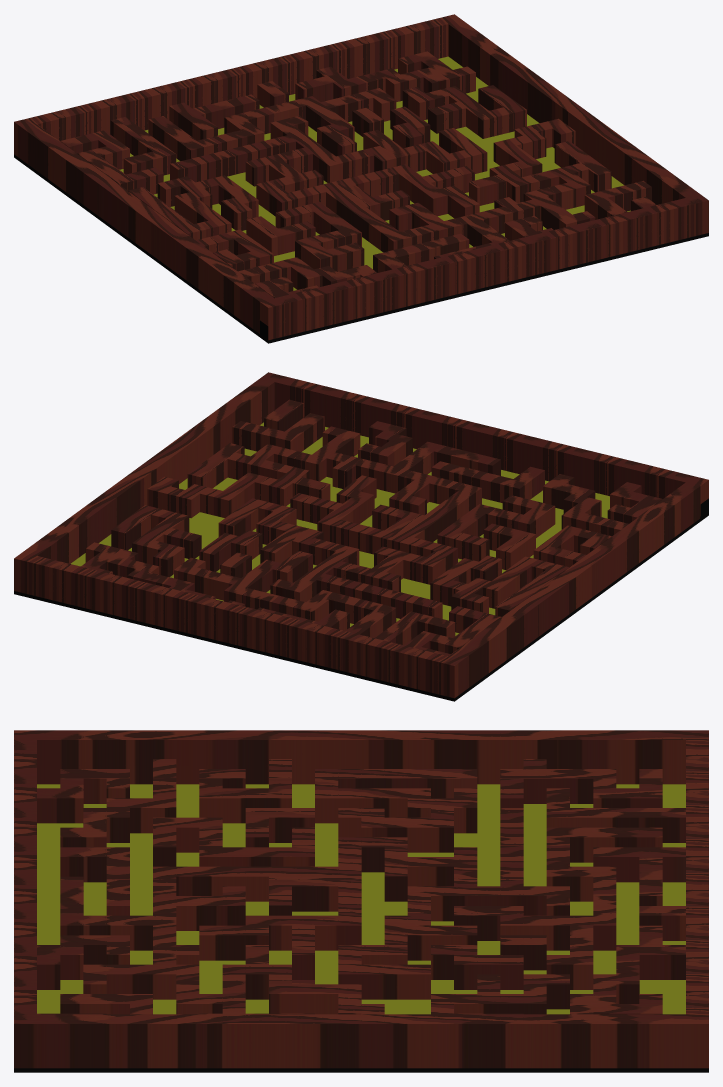
File: laberinto-medio.fbx
3 views of the same model, one above another, from view 1: azimuth 30°, elevation 25°; view 2: azimuth 150°, elevation 25°; view 3: azimuth 270°, elevation 25° (orthographic). The views are drawn at different scales.
Parts seen in each view (by area): view 1: Box001; view 2: Box001; view 3: Box001.
Boxes of the visible parts, box(x1,y1,x2,y2) form: Box001: box(14, 14, 708, 343); Box001: box(14, 372, 708, 701); Box001: box(14, 730, 708, 1072).
Size of the model in its own units: 280 by 21.66 by 280.
